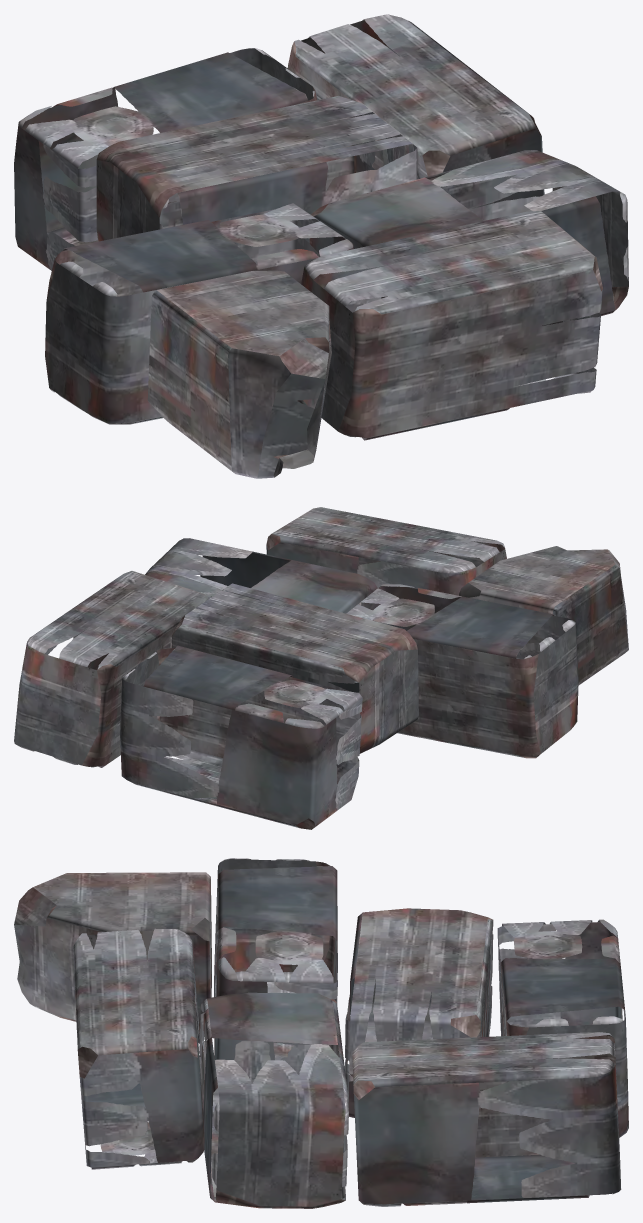
The picture shows the model from 3 angles, top to bottom: view 1: azimuth 30°, elevation 25°; view 2: azimuth 150°, elevation 25°; view 3: azimuth 270°, elevation 25°; orthographic projection. The views are drawn at different scales.
Visible parts, largest first — view 1: SM_Temple_Wall_Torch_01_LOD0; view 2: SM_Temple_Wall_Torch_01_LOD0; view 3: SM_Temple_Wall_Torch_01_LOD0.
Boxes of the visible parts, bbox=[...] form: SM_Temple_Wall_Torch_01_LOD0: bbox=[14, 14, 628, 478]; SM_Temple_Wall_Torch_01_LOD0: bbox=[14, 507, 628, 829]; SM_Temple_Wall_Torch_01_LOD0: bbox=[14, 858, 628, 1208].
Bounding box in the file's own units: 2.51 × 0.7221 × 2.82.
